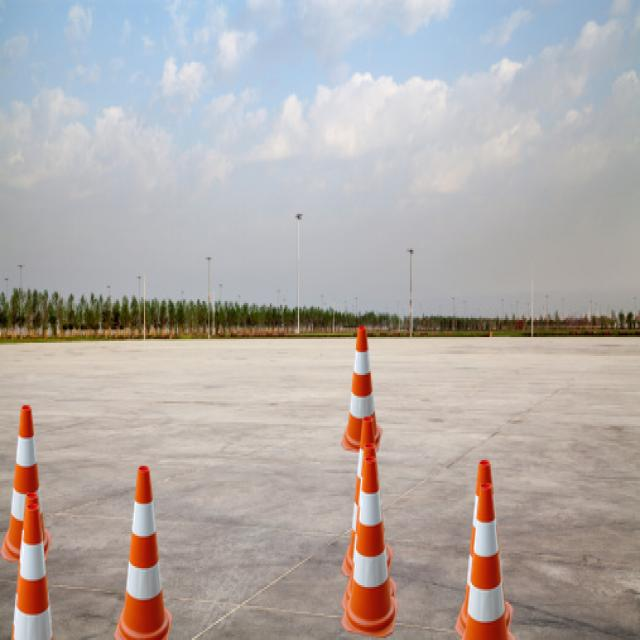large_orange_cone: (454, 460, 514, 640), (341, 456, 399, 638), (114, 466, 173, 640), (340, 443, 398, 619), (454, 483, 516, 640), (0, 492, 63, 640), (341, 417, 394, 583), (0, 503, 64, 640), (0, 405, 52, 566), (341, 326, 382, 454)
